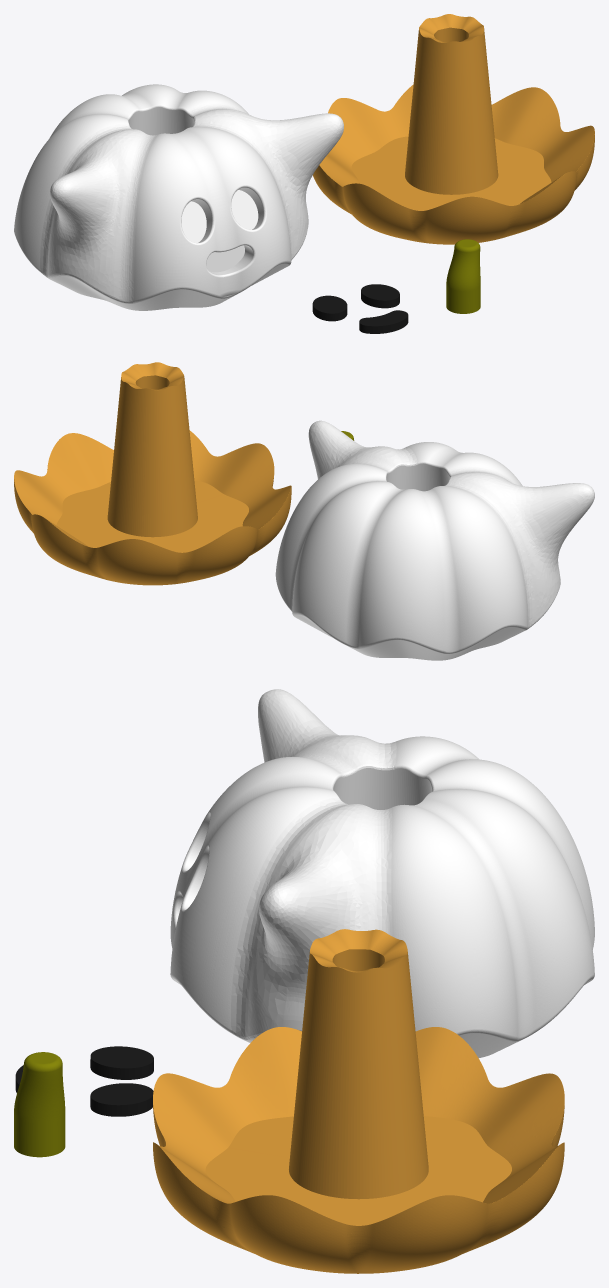
The model's file is ghost-pumpkin.glb.
3 views of the same model, one above another, from view 1: azimuth 30°, elevation 25°; view 2: azimuth 150°, elevation 25°; view 3: azimuth 270°, elevation 25° (orthographic). The views are drawn at different scales.
Visible parts, largest first — view 1: PumpkinGhost_Multipiece.STEP_5_fil1, PumpkinGhost_Multipiece.STEP_6_fil3, Assembly_fil4 (×3), PumpkinGhost_Multipiece.STEP_1_fil2; view 2: PumpkinGhost_Multipiece.STEP_5_fil1, PumpkinGhost_Multipiece.STEP_6_fil3; view 3: PumpkinGhost_Multipiece.STEP_5_fil1, PumpkinGhost_Multipiece.STEP_6_fil3, PumpkinGhost_Multipiece.STEP_1_fil2, Assembly_fil4 (×2).
Boxes of the visible parts, left/top/right/bottom form: PumpkinGhost_Multipiece.STEP_5_fil1: left=14, top=84, right=343, bottom=310; PumpkinGhost_Multipiece.STEP_6_fil3: left=313, top=14, right=594, bottom=244; Assembly_fil4 (×3): left=312, top=284, right=408, bottom=333; PumpkinGhost_Multipiece.STEP_1_fil2: left=446, top=239, right=480, bottom=313; PumpkinGhost_Multipiece.STEP_5_fil1: left=275, top=420, right=594, bottom=660; PumpkinGhost_Multipiece.STEP_6_fil3: left=14, top=362, right=291, bottom=585; PumpkinGhost_Multipiece.STEP_5_fil1: left=170, top=689, right=594, bottom=1057; PumpkinGhost_Multipiece.STEP_6_fil3: left=153, top=929, right=564, bottom=1273; PumpkinGhost_Multipiece.STEP_1_fil2: left=14, top=1052, right=65, bottom=1157; Assembly_fil4 (×2): left=90, top=1046, right=153, bottom=1116.
Size of the model in its own units: 0.1474 by 0.0459 by 0.0905.
